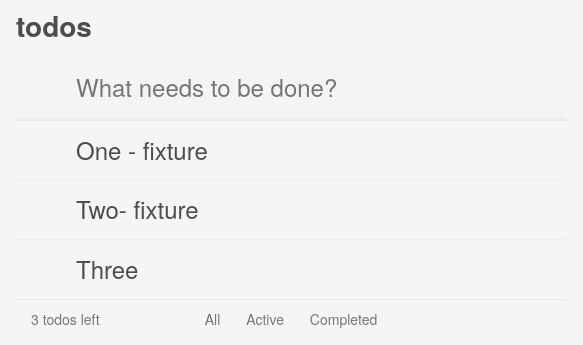
Test case: Form submisison › Show an error message for a failed form submission
The width and height of the screenshot is (583, 345).
Type "Test" into the field with class "new-todo".
click(291, 87); type("Test")  # box [16,54,566,120]
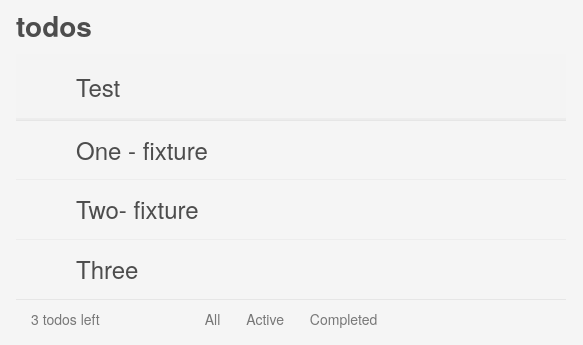
Press Enter in the field with class "new-todo", box [16,54,566,120]
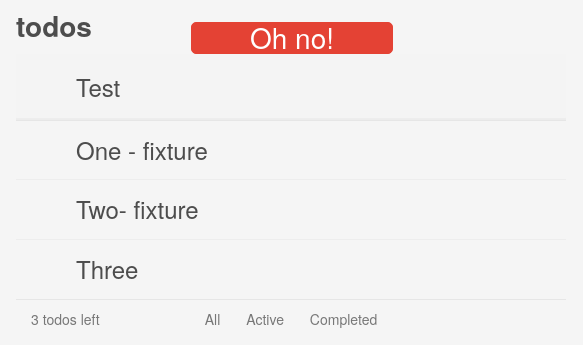
Expected: the text "Oh no!" is shown, [191,22,393,54]
